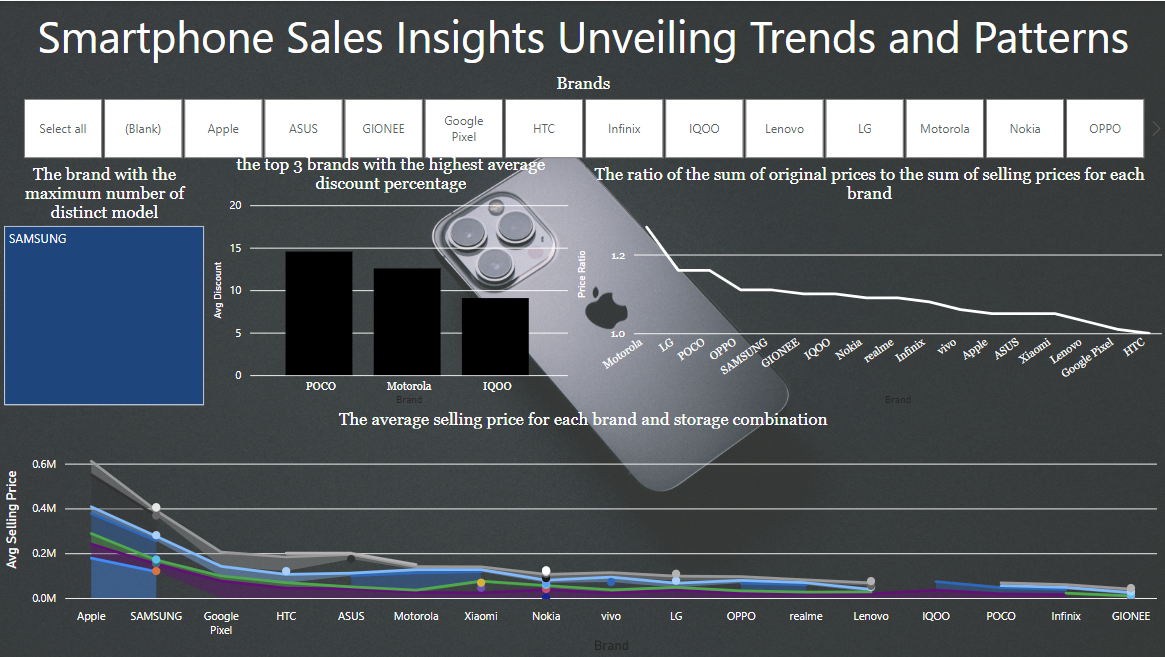

This screenshot's page, from the dashboard's own definition file:
{"tool":"powerbi","page":{"name":"Dashboard 3","canvas":[1280,720],"ordinal":6},"visuals":[{"type":"textbox","box":[0,0,1280.3,79.6],"z":0},{"type":"slicer","title":"Brands","fields":{"Values":["1.Brand"]},"box":[0,79.6,1280.3,100.2],"z":1000},{"type":"treemap","title":"The brand with the maximum number of distinct model","fields":{"Group":["7.Brand"],"Values":["Sum(7.Num_Models)"]},"box":[0,179.8,229.2,269],"z":2000},{"type":"clusteredColumnChart","title":"the top 3 brands with the highest average discount percentage","fields":{"Y":["Sum(8.Avg_Discount)"],"Category":["8.Brand"]},"box":[229.2,168.8,399.3,279.9],"z":3000},{"type":"stackedAreaChart","title":"The average selling price for each brand and storage combination","fields":{"Category":["10.Brand"],"Series":["10.Storage"],"Y":["Sum(10.Avg_Selling_Price)"]},"box":[0,448.7,1280.3,271.7],"z":4000},{"type":"lineChart","title":"The ratio of the sum of original prices to the sum of selling prices for each brand","fields":{"Category":["11.Brand"],"Y":["Sum(11.Price_Ratio)"]},"box":[628,180,652,269],"z":5000}]}

Visuals, with their boxes in screenshot pixels (x1, y1, x2, y2), scaled from the page's 1280x720 canvas onto the 1165x657 screenshot:
textbox: detection(0, 0, 1164, 73)
"Brands" slicer: detection(0, 73, 1164, 164)
"The brand with the maximum number of distinct model" treemap: detection(0, 164, 209, 410)
"the top 3 brands with the highest average discount percentage" clusteredColumnChart: detection(209, 154, 572, 409)
"The average selling price for each brand and storage combination" stackedAreaChart: detection(0, 409, 1164, 656)
"The ratio of the sum of original prices to the sum of selling prices for each brand" lineChart: detection(572, 164, 1164, 410)
